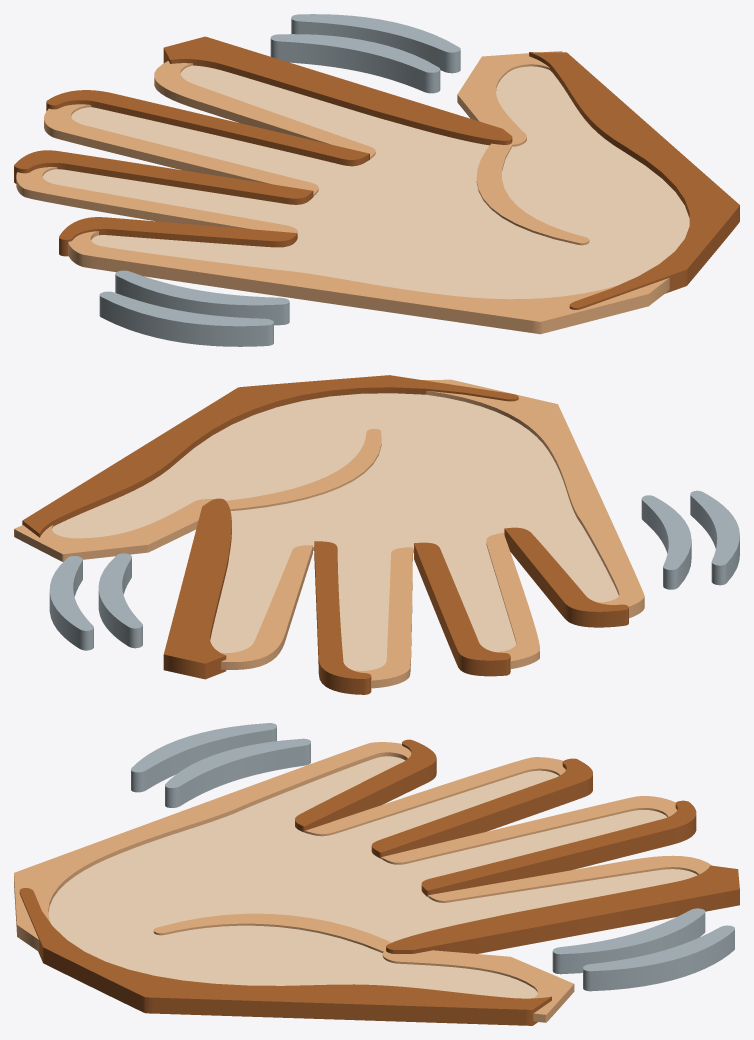
Rendered from emoji_u1f44b_1f3fb.glb.
The picture shows the model from 3 angles, top to bottom: view 1: azimuth 30°, elevation 25°; view 2: azimuth 150°, elevation 25°; view 3: azimuth 270°, elevation 25°; orthographic projection. The views are drawn at different scales.
Visible parts, largest first — view 1: emoji_u1f44b_1f3fb; view 2: emoji_u1f44b_1f3fb; view 3: emoji_u1f44b_1f3fb.
Boxes of the visible parts, x1,y1,x2,y2 form: emoji_u1f44b_1f3fb: [14, 14, 739, 346]; emoji_u1f44b_1f3fb: [14, 375, 739, 694]; emoji_u1f44b_1f3fb: [14, 723, 739, 1025].
Size of the model in its own units: 0.0307 by 0.001 by 0.0329.
